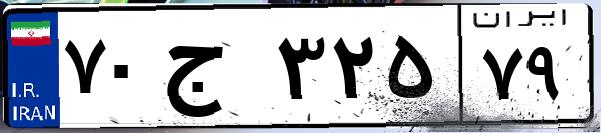0: (110, 28, 158, 98)
2: (330, 28, 385, 110)
3: (270, 28, 330, 110)
5: (385, 28, 445, 110)
7: (57, 26, 110, 100), (475, 38, 525, 113)
9: (525, 38, 570, 115)
ج: (158, 20, 270, 120)
